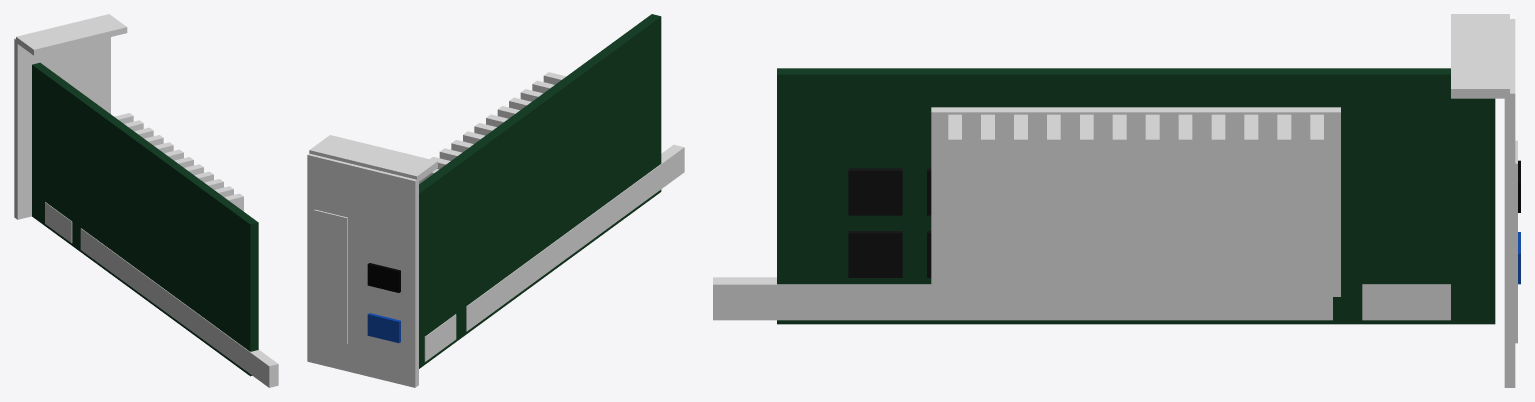
Rendered from hw_gpu_gt710.glb.
3 views of the same model, side by side, from view 1: azimuth 30°, elevation 25°; view 2: azimuth 150°, elevation 25°; view 3: azimuth 270°, elevation 25° (orthographic). The views are drawn at different scales.
Visible parts, largest first — view 1: Body; view 2: Body; view 3: Body.
Part boxes in pixels (<box>): Body: <box>14,14,278,387</box>; Body: <box>307,14,684,387</box>; Body: <box>713,14,1520,387</box>.
Size of the model in its own units: 0.036 by 0.0671 by 0.1642.
